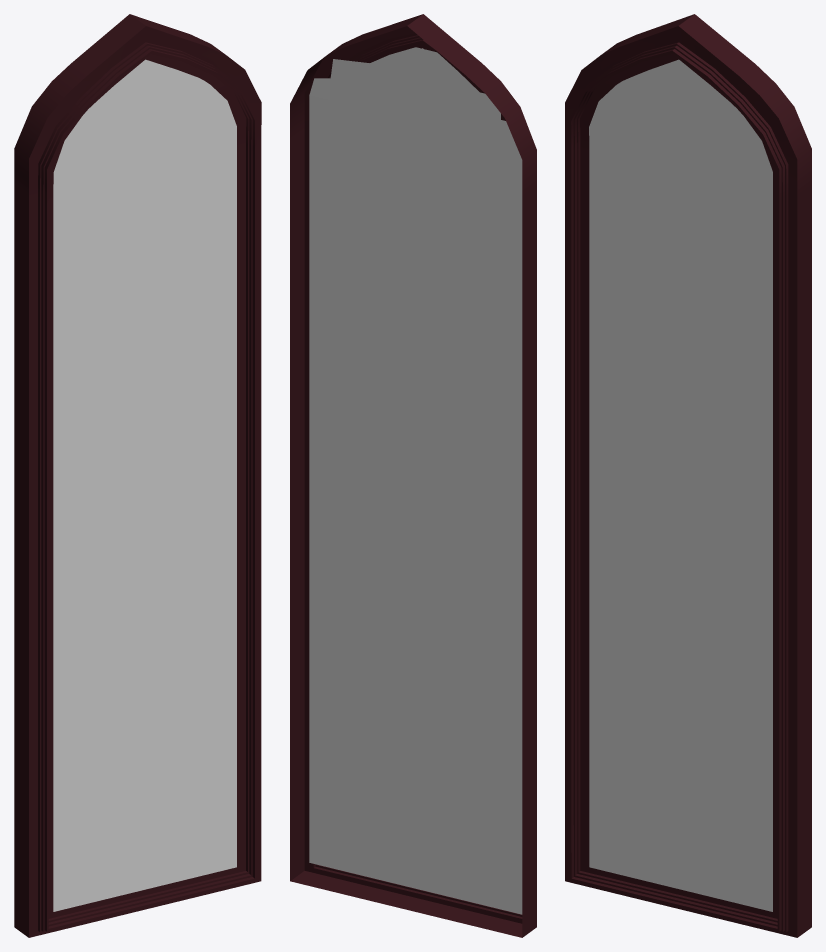
The model's file is Single_Glass_Tall_2_.fbx.
The picture shows the model from 3 angles, left to right: view 1: azimuth 30°, elevation 25°; view 2: azimuth 150°, elevation 25°; view 3: azimuth 330°, elevation 25°; orthographic projection.
Visible parts, largest first — view 1: Plane.019, Paint 1.013; view 2: Plane.019, Paint 1.013; view 3: Plane.019, Paint 1.013.
Boxes of the visible parts, x1,y1,x2,y2 form: Plane.019: [53, 59, 236, 911]; Paint 1.013: [14, 14, 261, 937]; Plane.019: [309, 47, 522, 914]; Paint 1.013: [290, 14, 536, 937]; Plane.019: [589, 59, 772, 911]; Paint 1.013: [565, 14, 811, 937].
Bounding box in the file's own units: 123 × 449 × 20.68.
